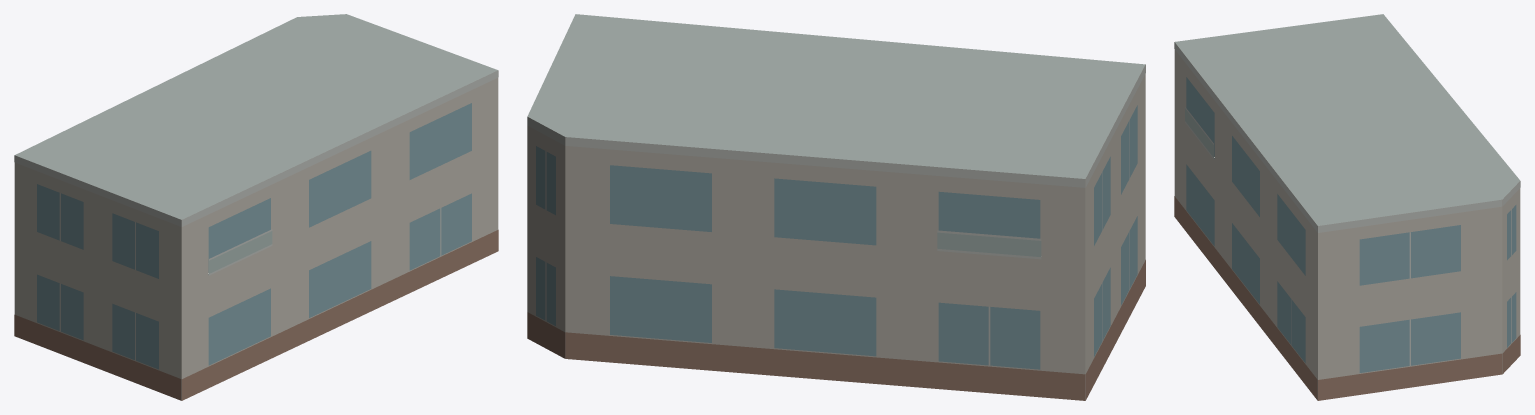
The model's file is survey-upis-32714699.glb.
The picture shows the model from 3 angles, left to right: view 1: azimuth 30°, elevation 25°; view 2: azimuth 150°, elevation 25°; view 3: azimuth 270°, elevation 25°; orthographic projection. The views are drawn at different scales.
Visible parts, largest first — view 1: survey-upis-32714699.tmp; view 2: survey-upis-32714699.tmp; view 3: survey-upis-32714699.tmp.
Part boxes in pixels (x1,y1,x2,y2): survey-upis-32714699.tmp: [14, 14, 498, 400]; survey-upis-32714699.tmp: [527, 14, 1145, 400]; survey-upis-32714699.tmp: [1174, 14, 1520, 400].
Bounding box in the file's own units: 15.88 × 6.1 × 10.95.
